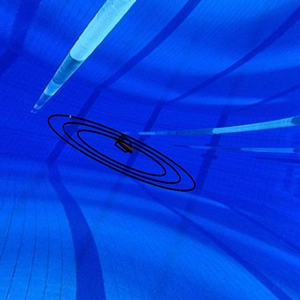circle: (46, 113, 199, 194)
submarine: (110, 133, 137, 155)
